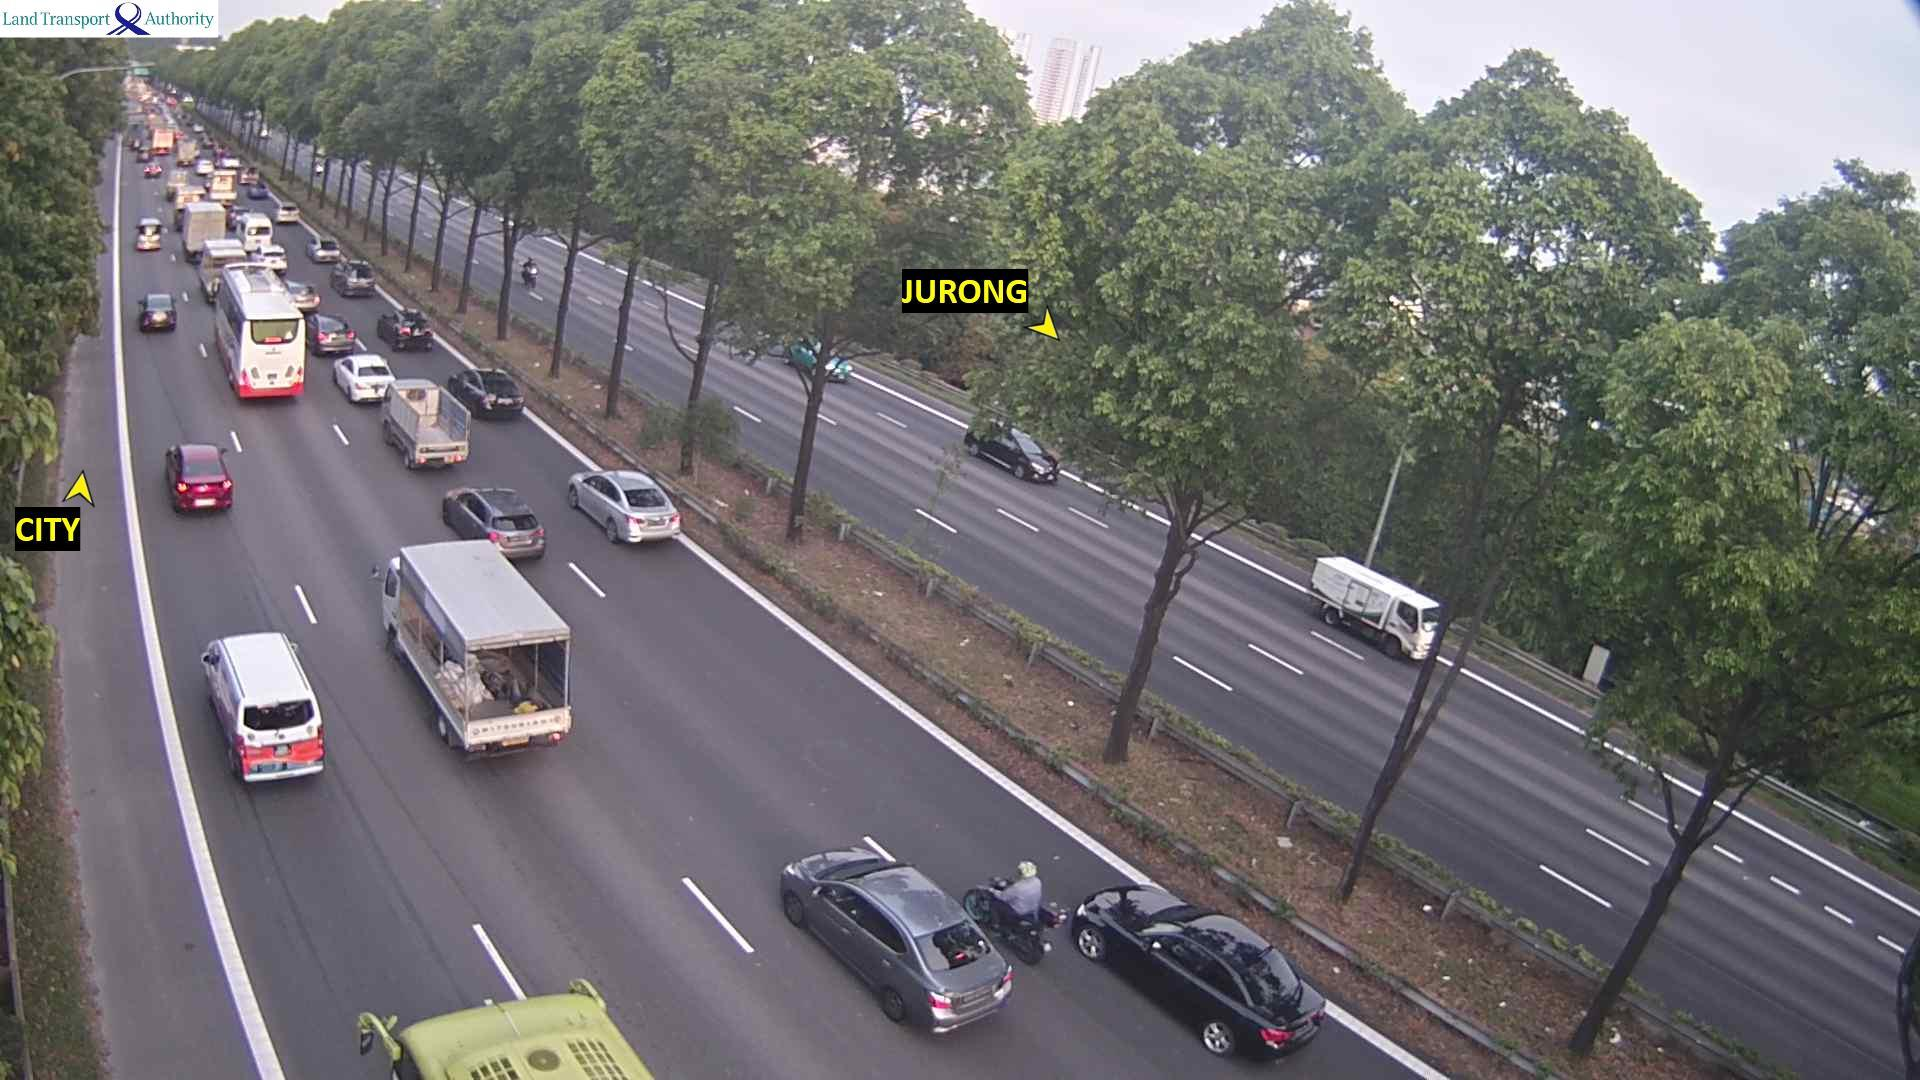incoming: (994, 423, 1068, 495), (1387, 595, 1440, 670), (522, 265, 542, 289)
